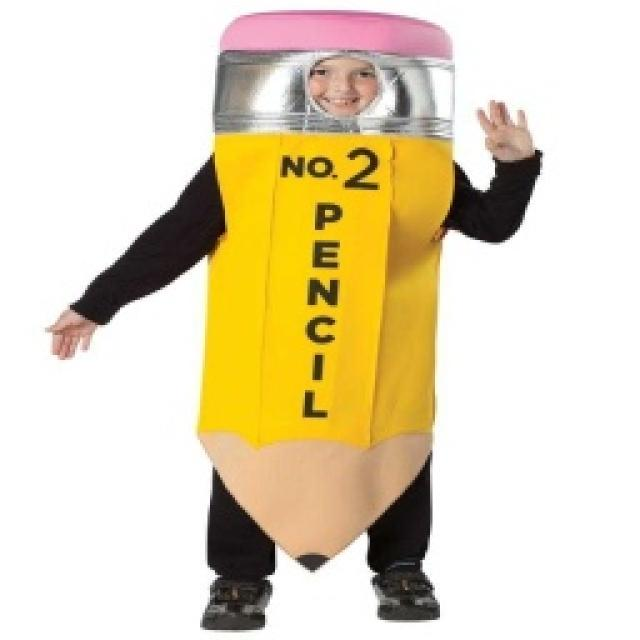pencil: (43, 5, 545, 633)
